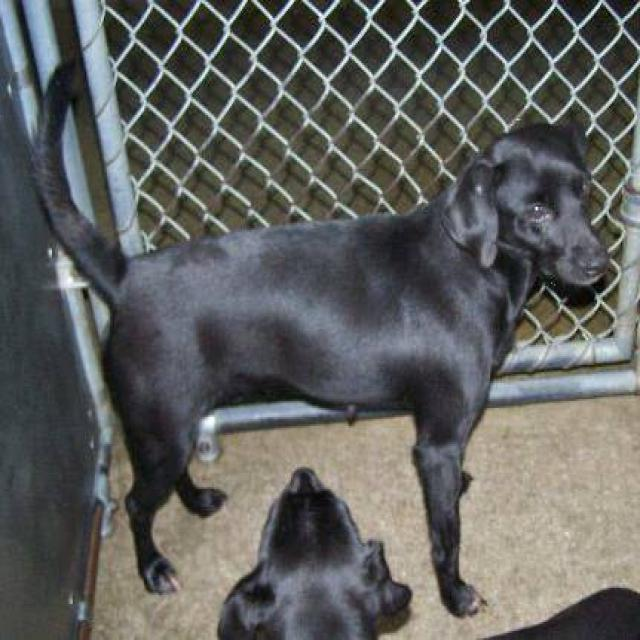dog: (28, 57, 610, 618), (214, 466, 638, 638)
